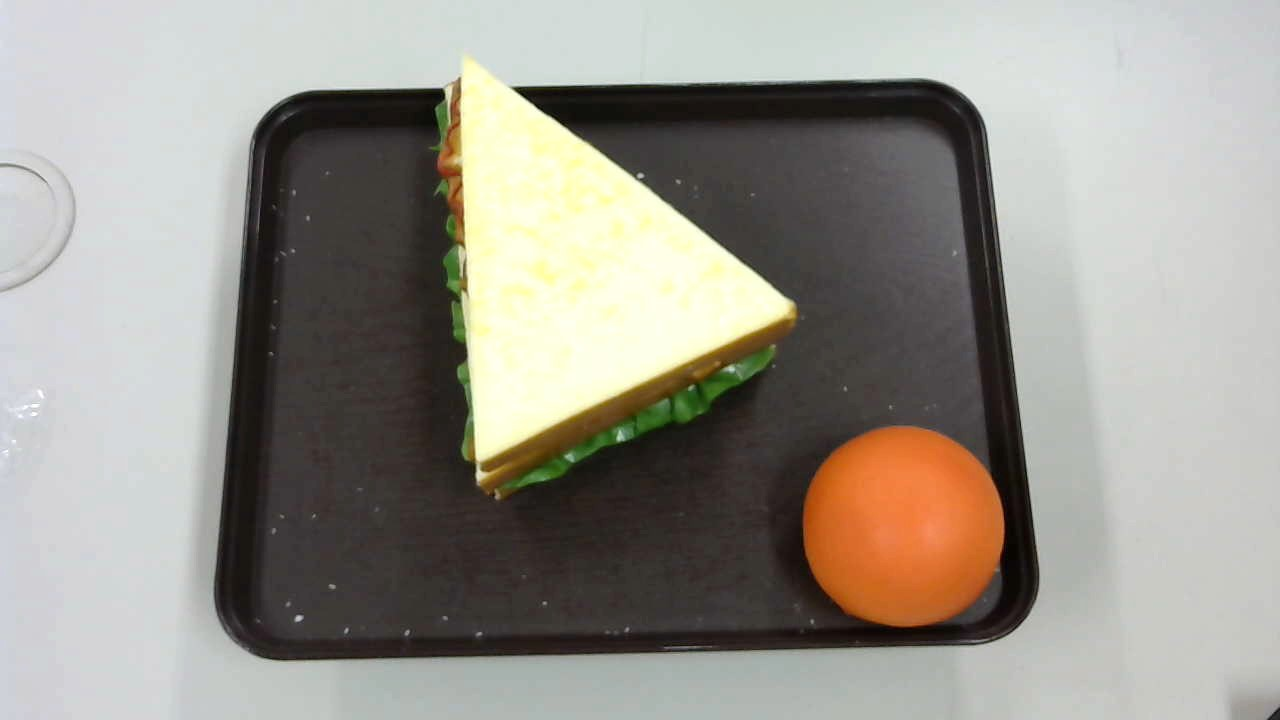bun: (802, 426, 1005, 627)
sandwich: (434, 56, 798, 497)
